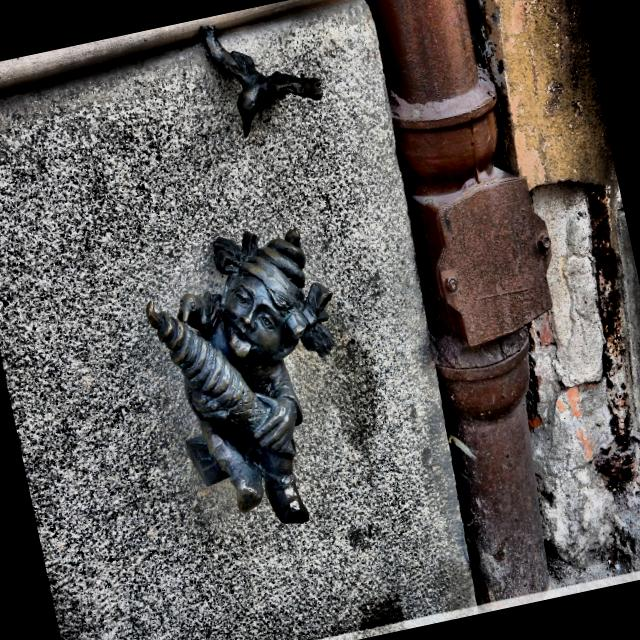Dziupelka: (146, 229, 335, 525), (201, 28, 321, 133)
